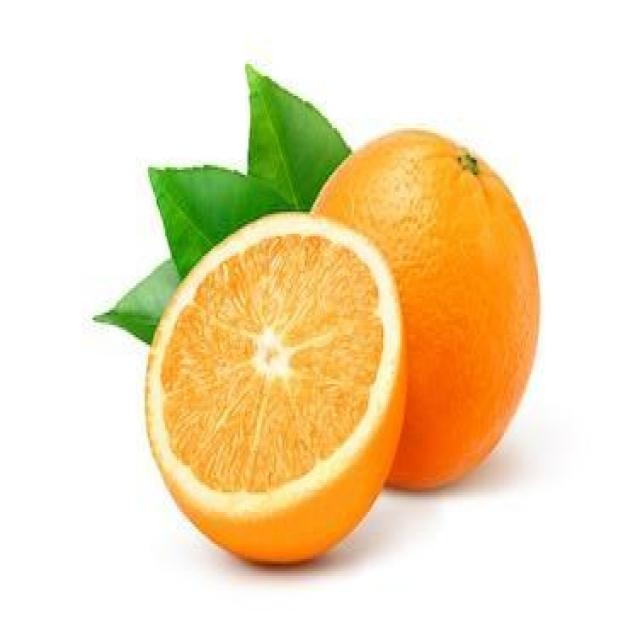orange: (398, 127, 543, 504), (142, 210, 148, 240)
